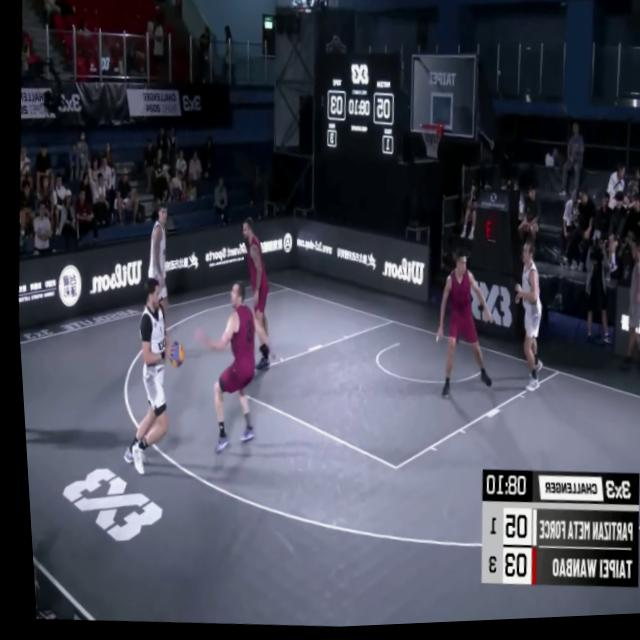ball: (161, 340, 183, 372)
hoop: (413, 119, 445, 166)
player: (104, 274, 177, 476), (193, 280, 263, 461), (420, 248, 498, 409), (500, 237, 550, 402), (129, 202, 184, 352), (227, 213, 277, 376)
